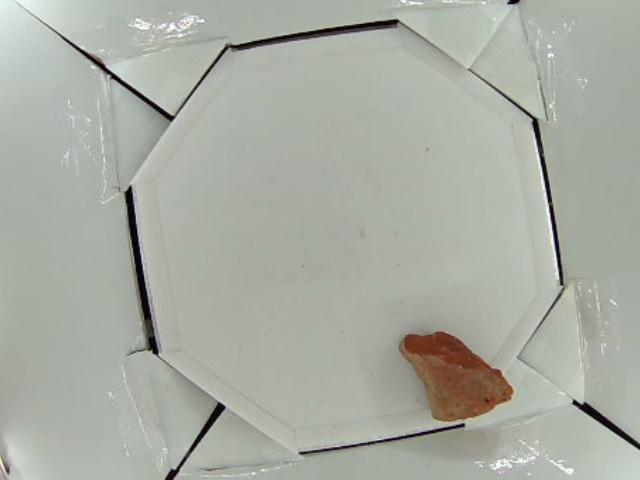Brisk: (402, 331, 515, 421)
